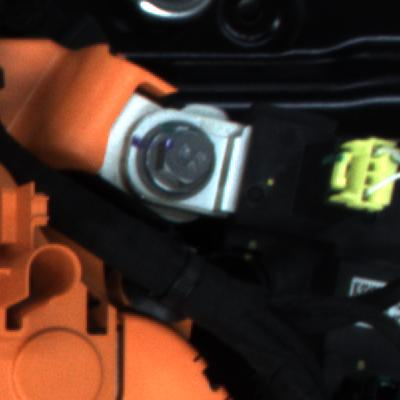nut_b: (135, 119, 231, 203)
